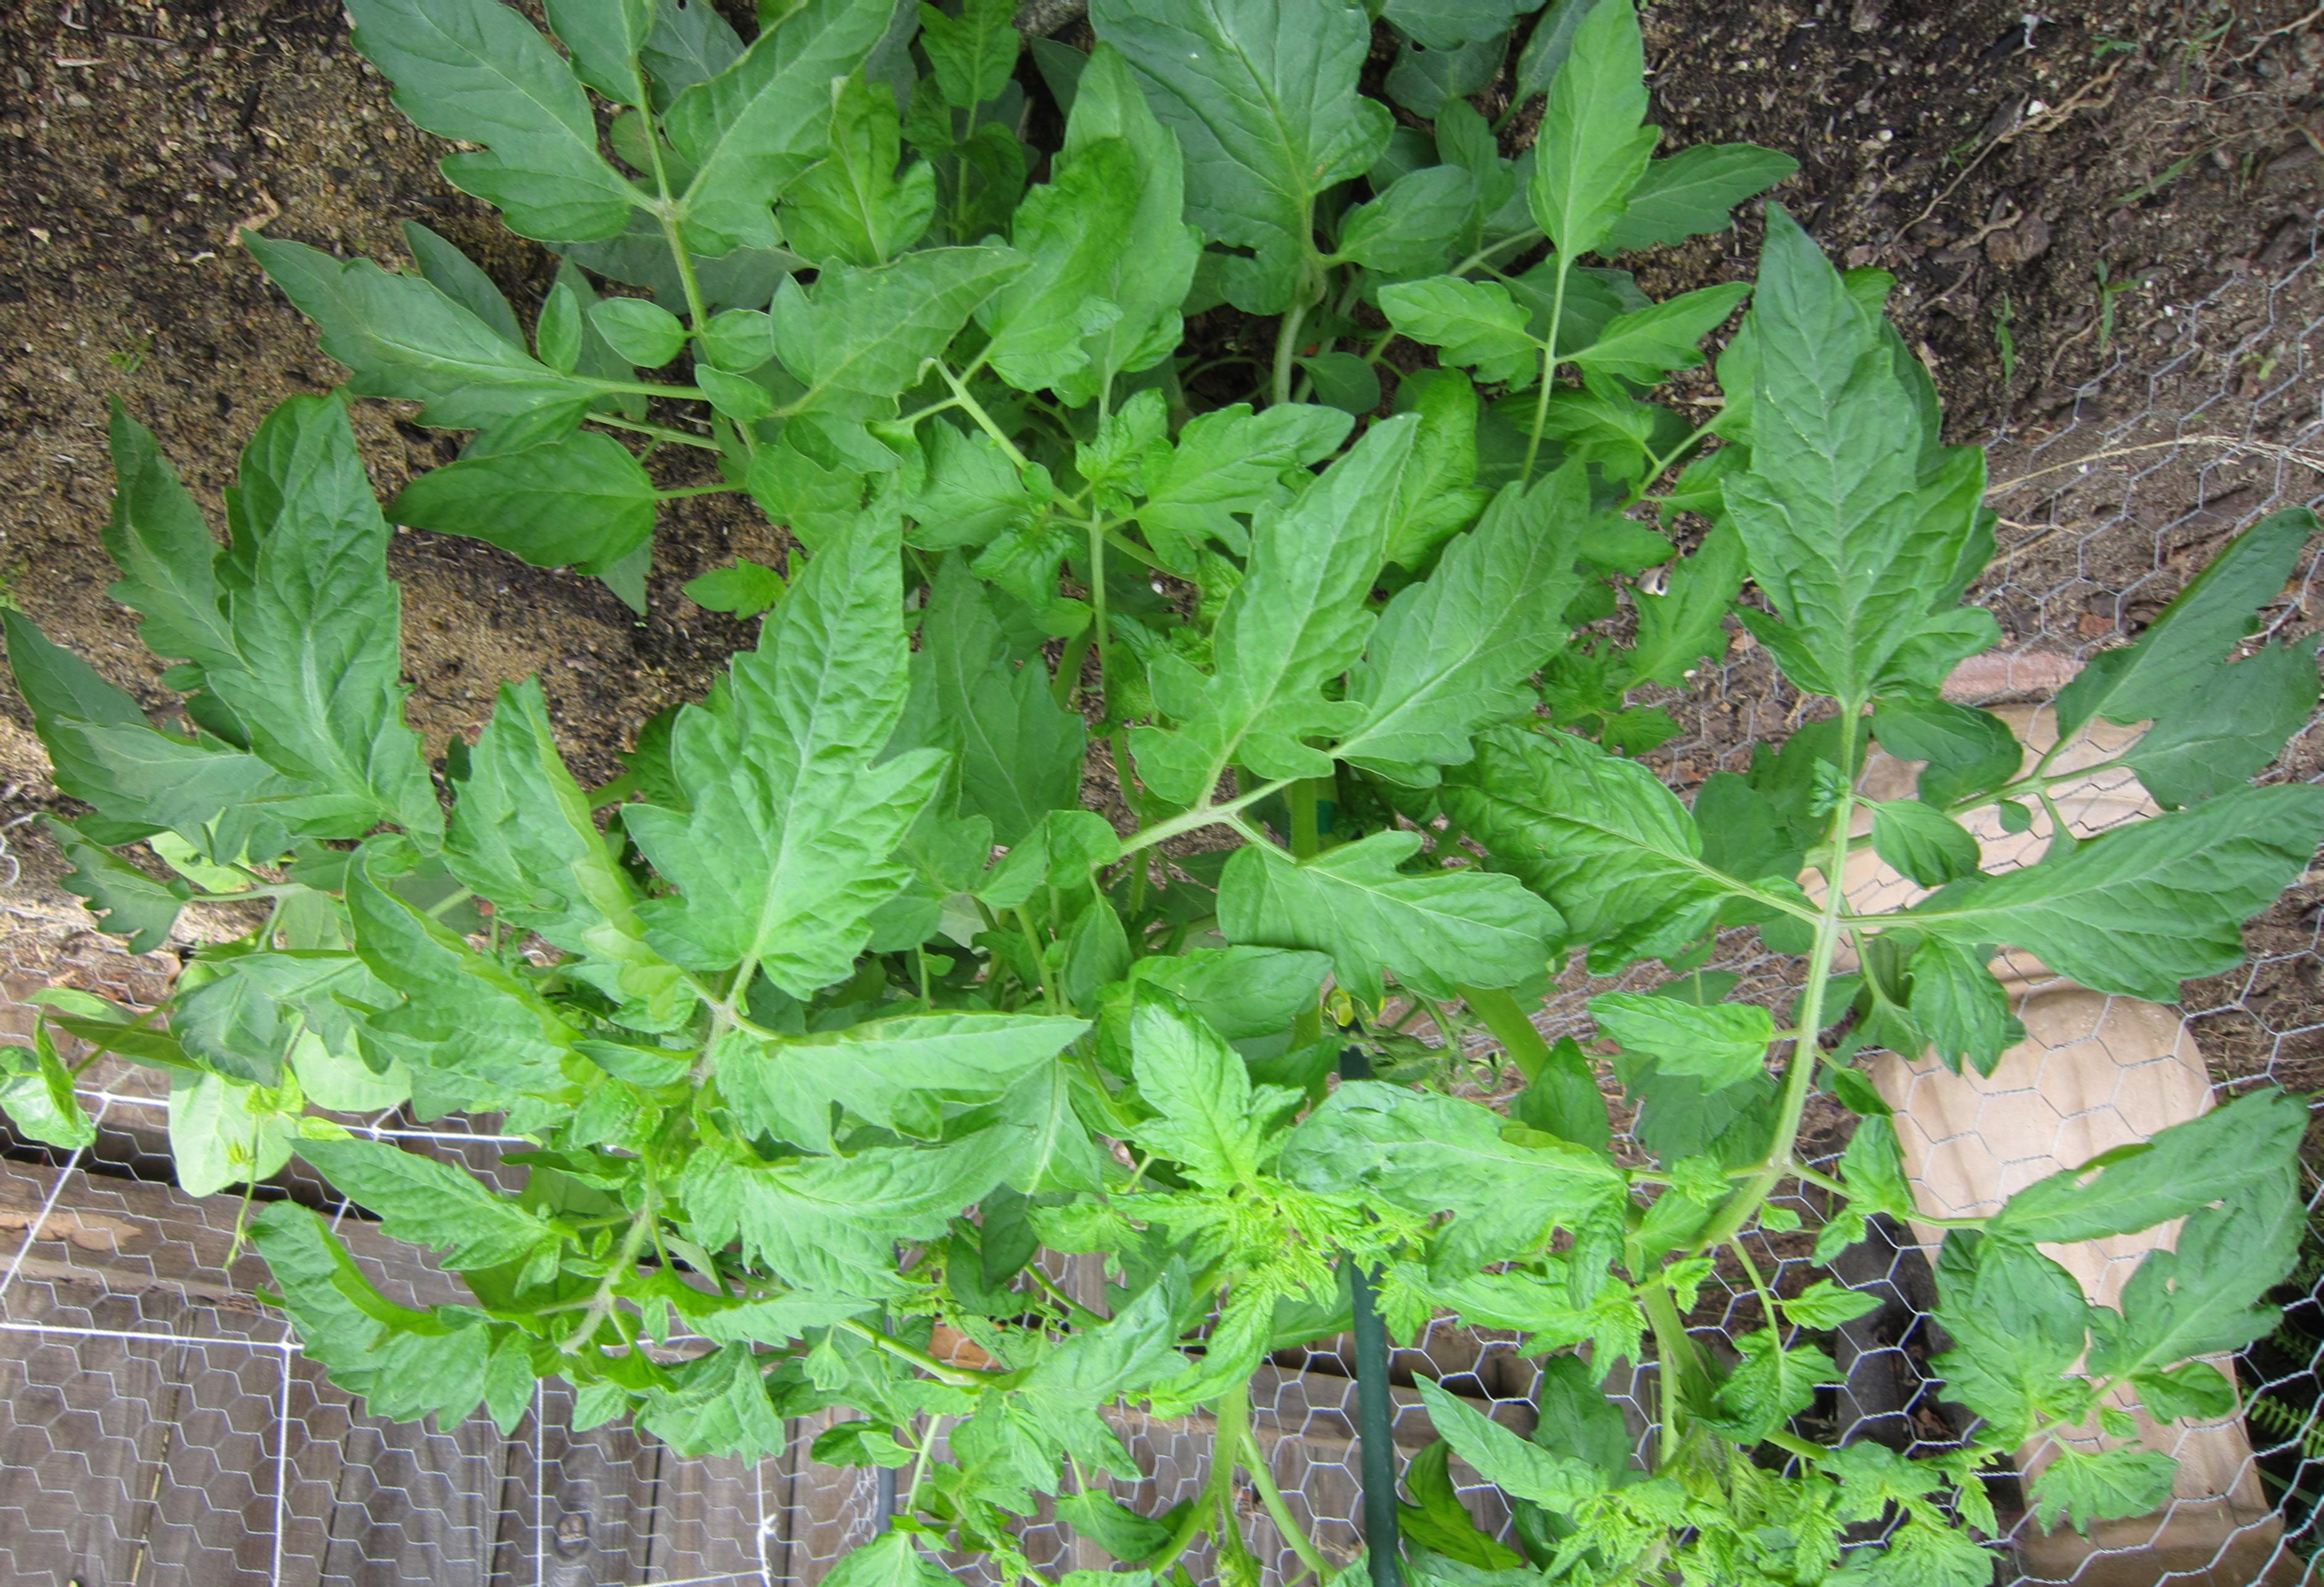Tomato leaf: (1706, 150, 1967, 696), (1879, 746, 2303, 1043), (662, 525, 939, 976), (231, 369, 443, 907), (1245, 1082, 1720, 1287), (1339, 449, 1607, 811), (240, 1172, 555, 1458), (1098, 0, 1397, 276), (897, 523, 1104, 917), (1990, 1020, 2312, 1272), (1203, 785, 1573, 1002), (627, 1090, 1019, 1292), (648, 0, 954, 253), (2043, 497, 2324, 771), (459, 698, 687, 1034), (339, 0, 618, 263), (724, 944, 1081, 1149), (268, 214, 581, 447), (0, 622, 293, 869), (733, 184, 1021, 435), (1229, 391, 1430, 749), (945, 111, 1157, 417), (302, 1083, 583, 1295), (343, 972, 657, 1158), (1114, 343, 1395, 543), (939, 1281, 1188, 1495), (1404, 1334, 1662, 1539), (401, 417, 680, 585), (618, 1223, 915, 1378), (1121, 972, 1289, 1207), (749, 1006, 1109, 1090), (1561, 981, 1800, 1092), (798, 1495, 971, 1587)
